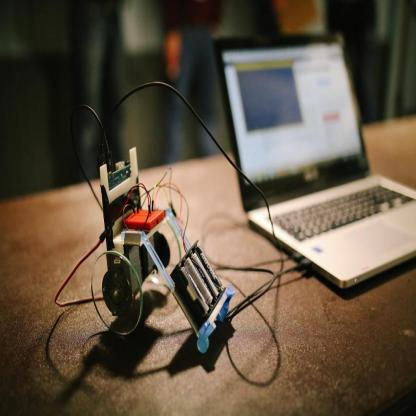board: (230, 33, 414, 308)
